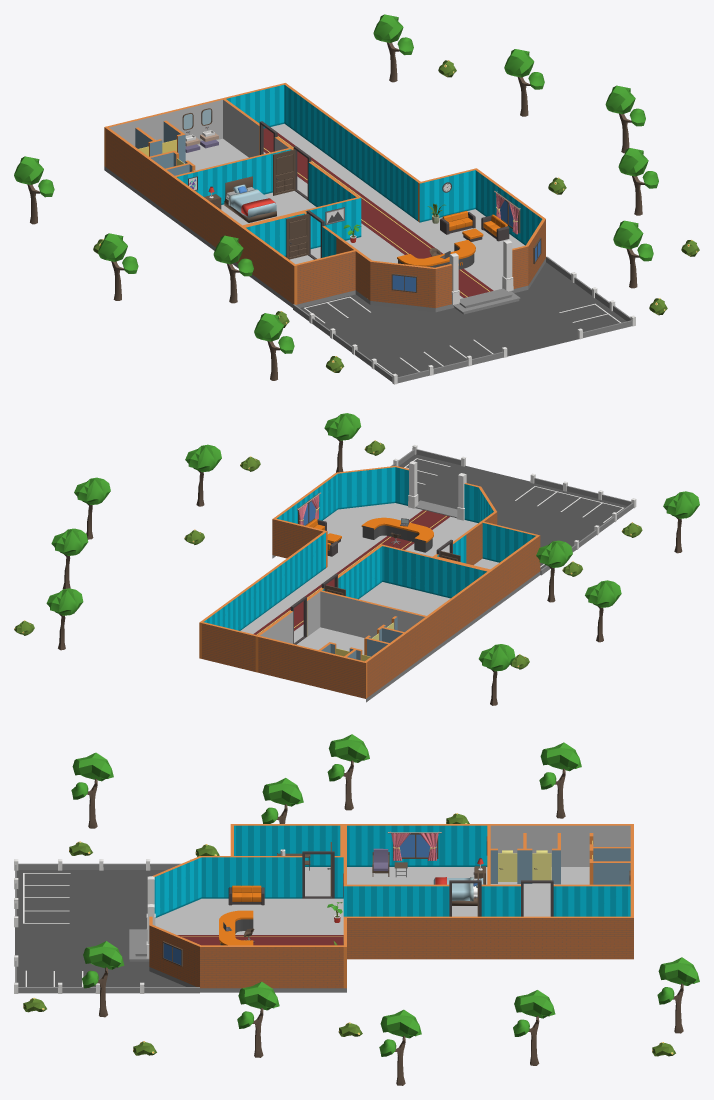
Rendered from Hotel ENV.FBX.
The picture shows the model from 3 angles, top to bottom: view 1: azimuth 30°, elevation 25°; view 2: azimuth 150°, elevation 25°; view 3: azimuth 270°, elevation 25°; orthographic projection. The views are drawn at different scales.
Parts seen in each view (by area): view 1: Parking, Wall_021, Wall_08, Wall_11, Parking_wall, HotelGate_01, Wall_off_09, BedSingle_Clean_01, Wall_035, Wall_off_03, Wall_off_05, Wall_025 (+47 smaller); view 2: Parking, Wall_05, Wall_040, Wall_028, Wall_off_09, Wall_044, Wall_035, ReceptionDesk_01, Wall_024, Wall_021, Parking_wall, Wall_11 (+36 smaller); view 3: Parking, Wall_off_05, Wall_06, Wall_off_07, Wall_off_03, Wall_off_01, Wall_07, Wall_09, Wall_025, Wall_023, Parking_wall, Wall_off_02 (+38 smaller).
Part boxes in pixels (<box>): Parking: <box>104,166,626,377</box>; Wall_021: <box>296,250,355,304</box>; Wall_08: <box>370,260,435,308</box>; Wall_11: <box>418,168,477,222</box>; Parking_wall: <box>293,256,632,383</box>; HotelGate_01: <box>449,240,520,314</box>; Wall_off_09: <box>224,83,284,128</box>; BedSingle_Clean_01: <box>224,176,276,222</box>; Wall_035: <box>301,197,361,248</box>; Wall_off_03: <box>350,132,386,196</box>; Wall_off_05: <box>316,107,352,171</box>; Wall_025: <box>173,177,209,240</box>; Parking: <box>272,454,627,702</box>; Wall_05: <box>336,466,395,509</box>; Wall_040: <box>312,649,367,698</box>; Wall_028: <box>320,590,375,638</box>; Wall_off_09: <box>202,622,256,671</box>; Wall_044: <box>258,636,312,685</box>; Wall_035: <box>380,544,434,594</box>; ReceptionDesk_01: <box>361,517,433,552</box>; Wall_024: <box>433,557,488,598</box>; Wall_021: <box>482,521,537,562</box>; Parking_wall: <box>391,449,633,575</box>; Wall_11: <box>272,518,327,567</box>; Parking: <box>15,870,346,992</box>; Wall_off_05: <box>490,916,562,959</box>; Wall_06: <box>272,945,343,988</box>; Wall_off_07: <box>562,916,633,959</box>; Wall_off_03: <box>419,916,490,959</box>; Wall_off_01: <box>347,916,418,959</box>; Wall_07: <box>200,945,271,988</box>; Wall_09: <box>200,856,271,898</box>; Wall_025: <box>415,824,487,866</box>; Wall_023: <box>272,824,343,866</box>; Parking_wall: <box>15,863,199,993</box>; Wall_off_02: <box>347,885,418,916</box>.
Size of what is drawn, in the model's own units: 4611 by 524 by 4573.
